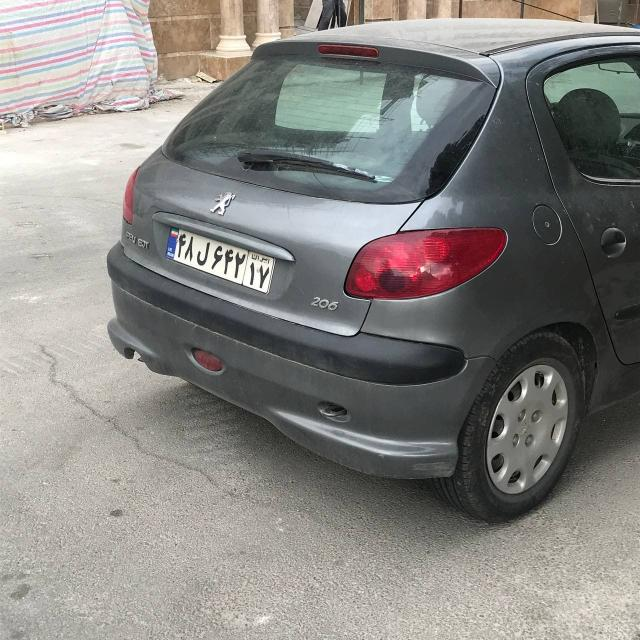Plates: (160, 228, 277, 294)
